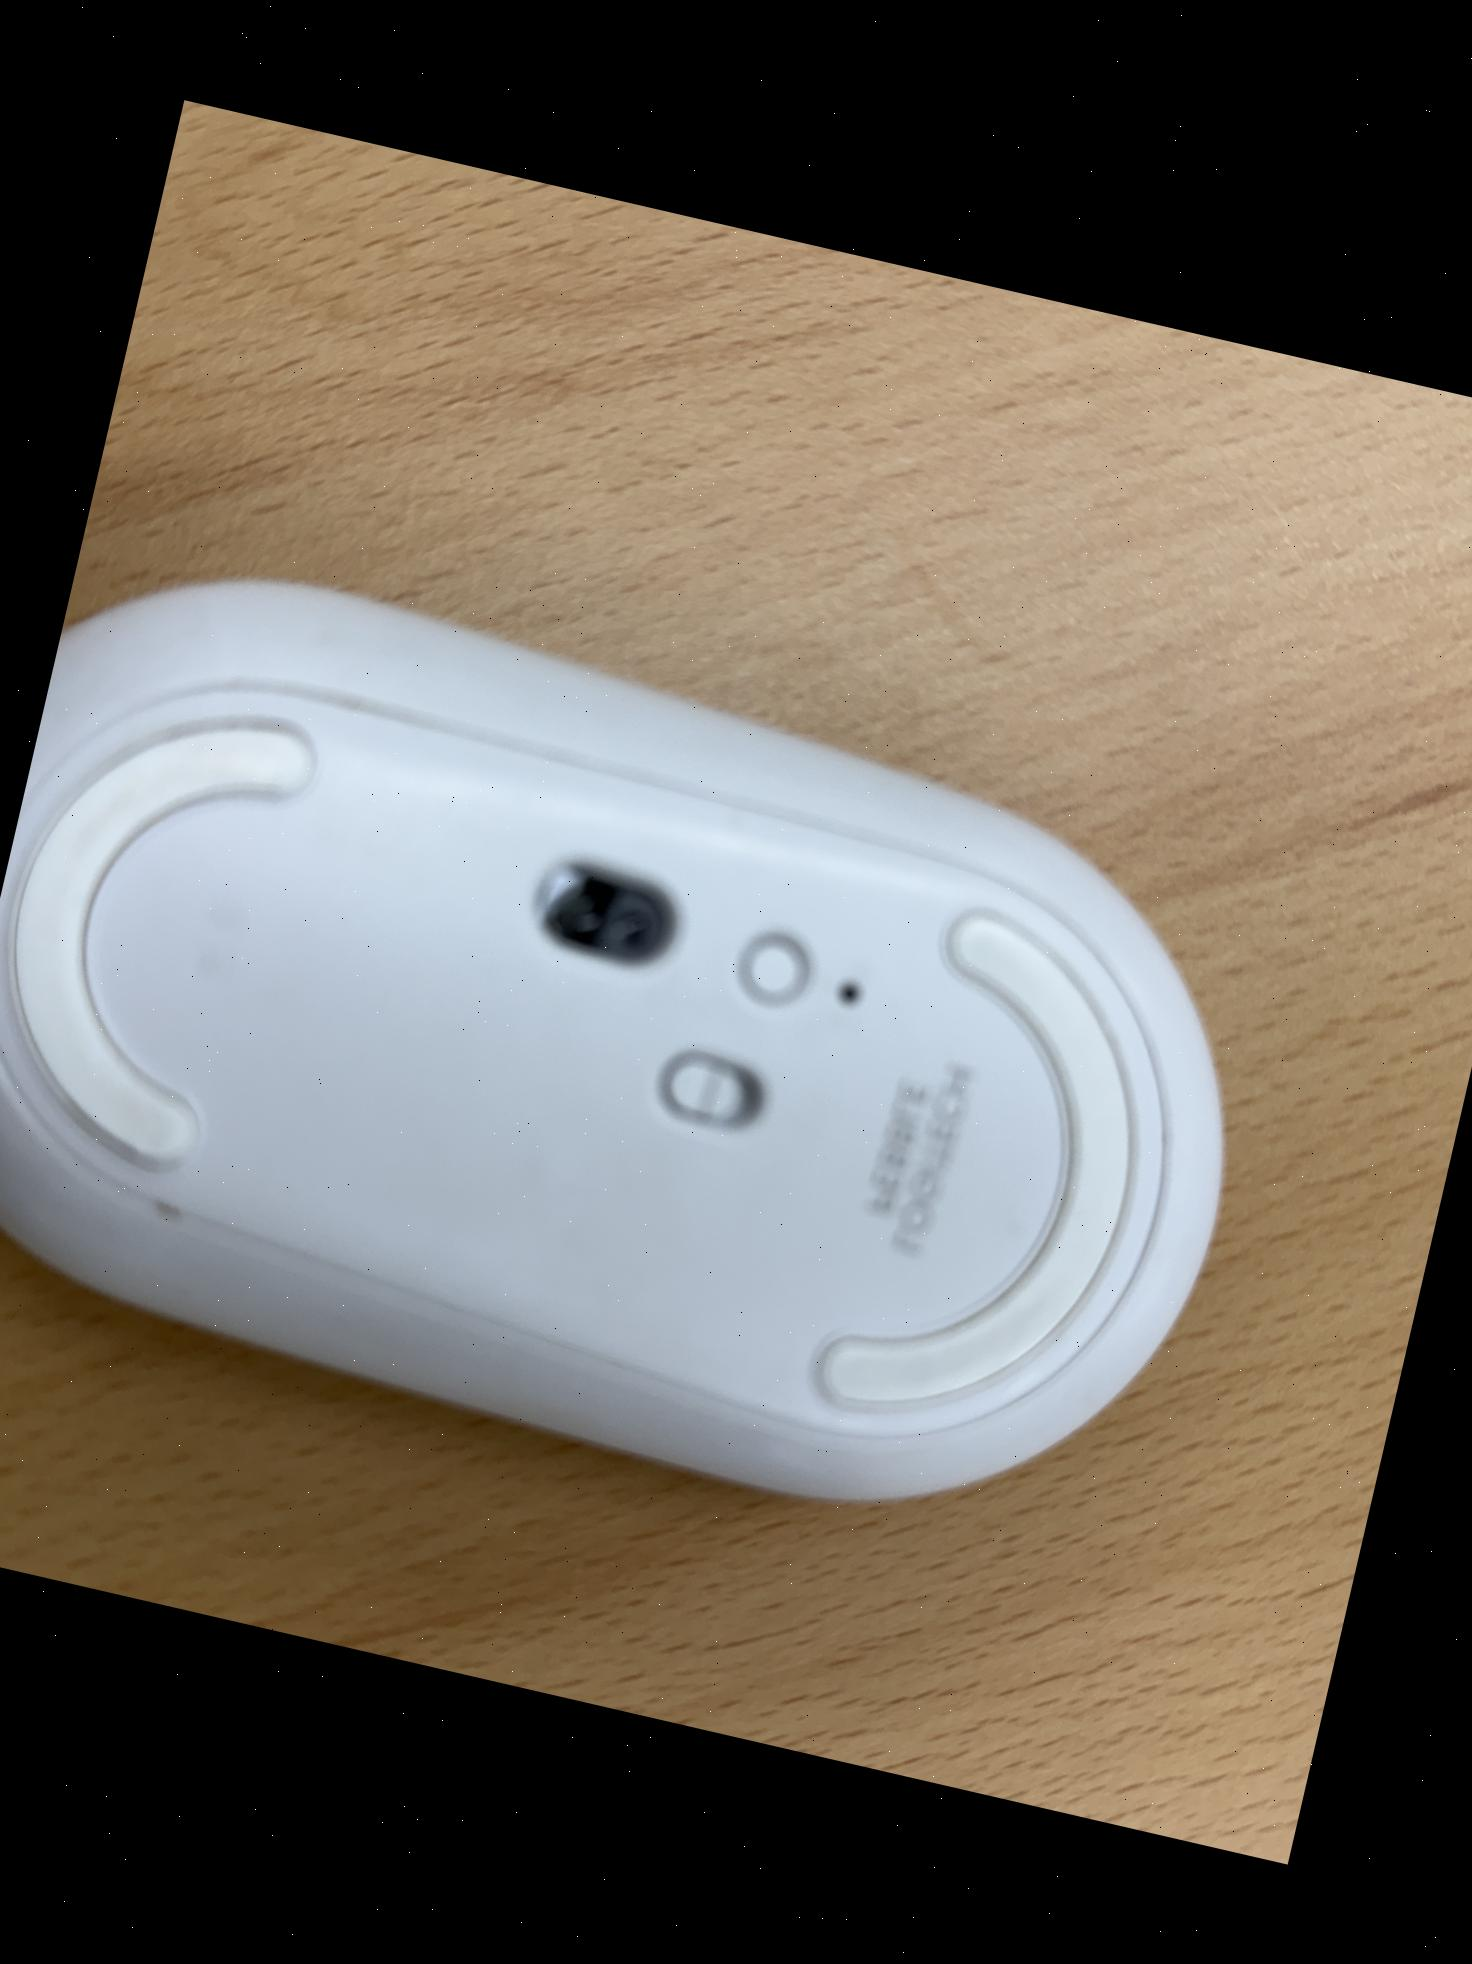back: (0, 524, 1317, 1597)
